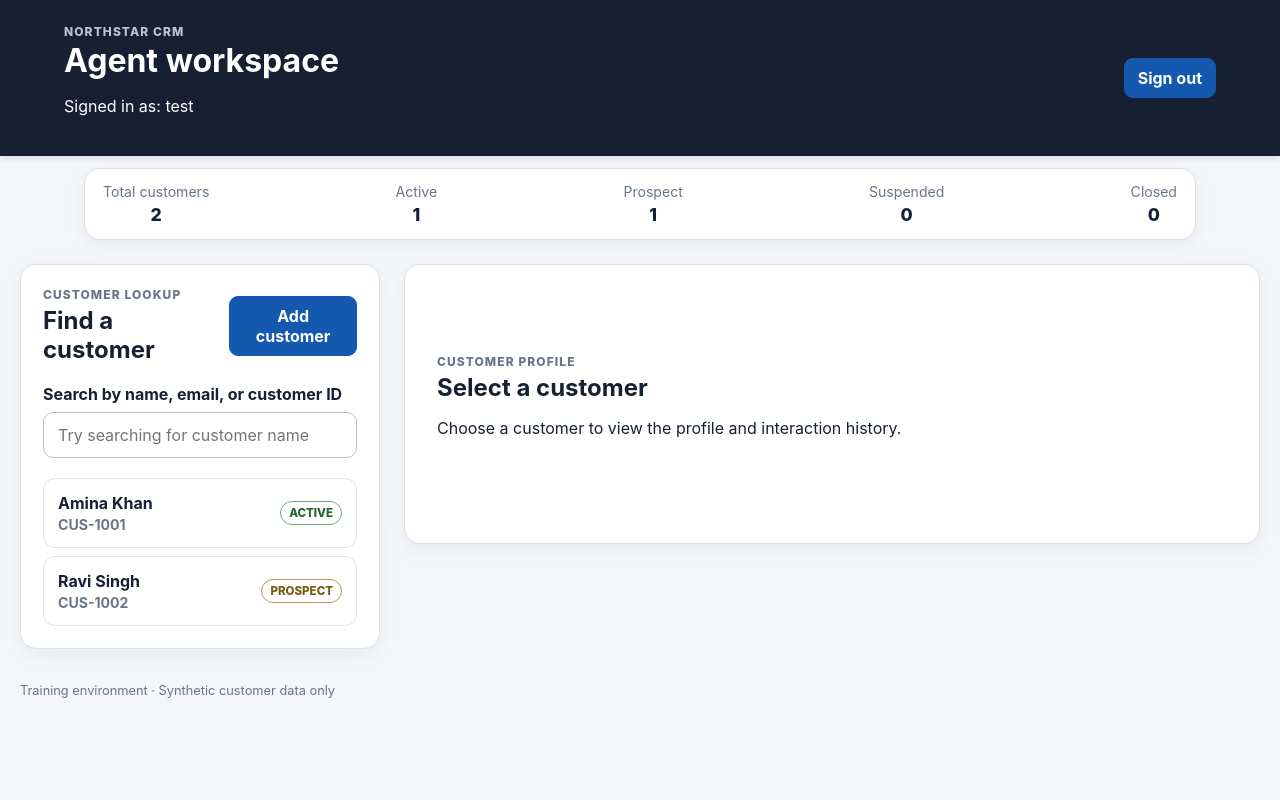
App › selects Amina and loads her profile
The width and height of the screenshot is (1280, 800).
Click the button "Amina Khan CUS-1001 Active" at (105, 503), box 43,478 -> 357,548
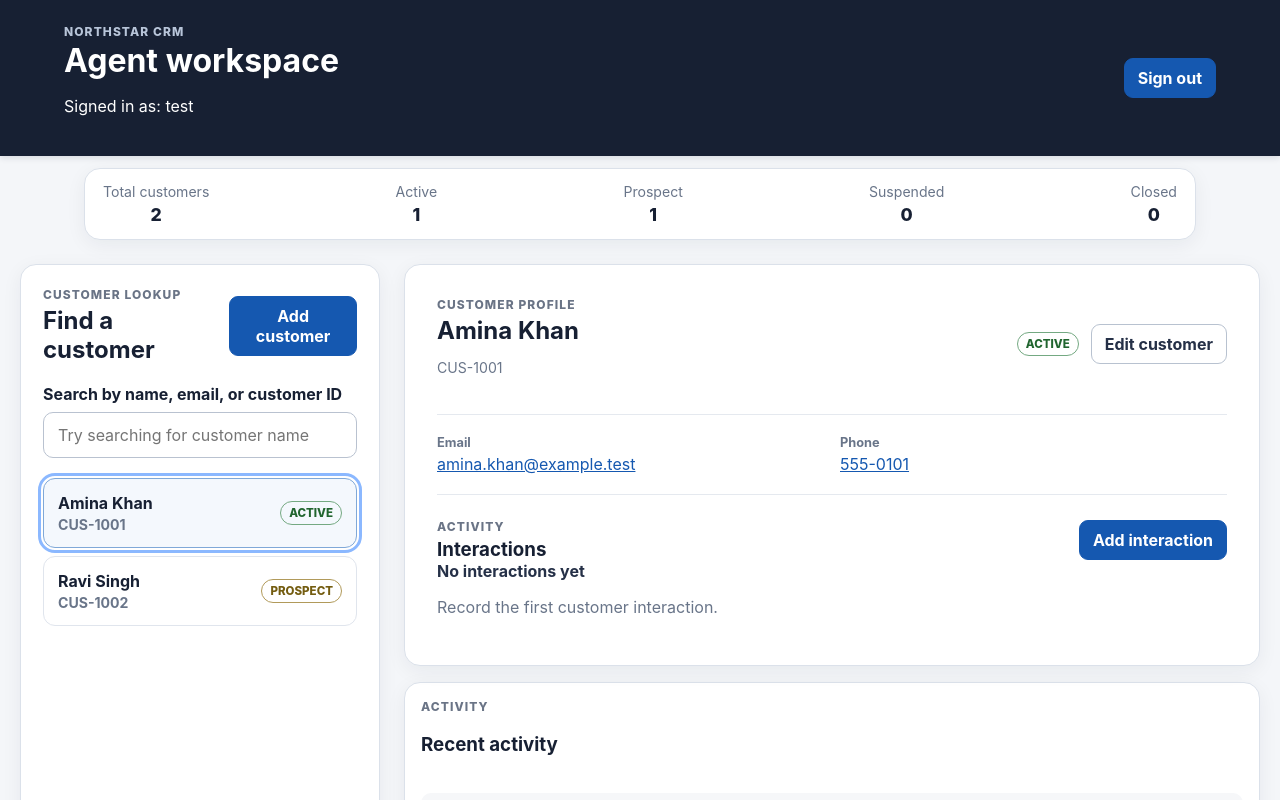
Expected: the heading "Amina Khan" is shown, 437,316 -> 579,345
